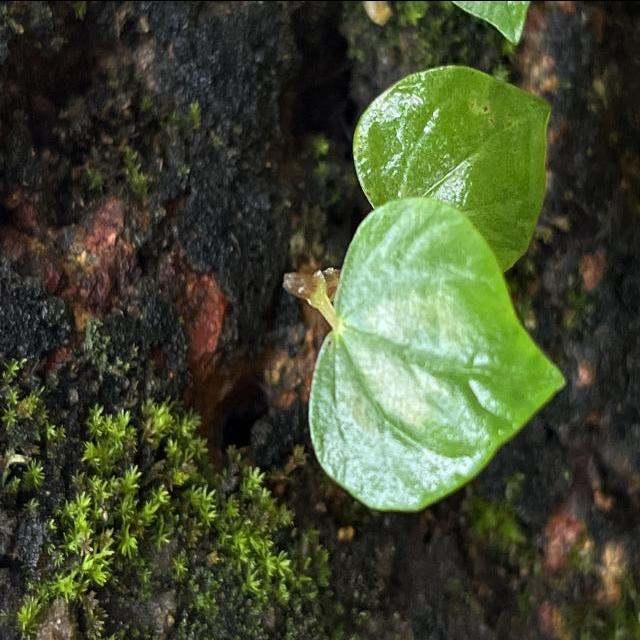Peperomia pellucida: (306, 194, 572, 514)
